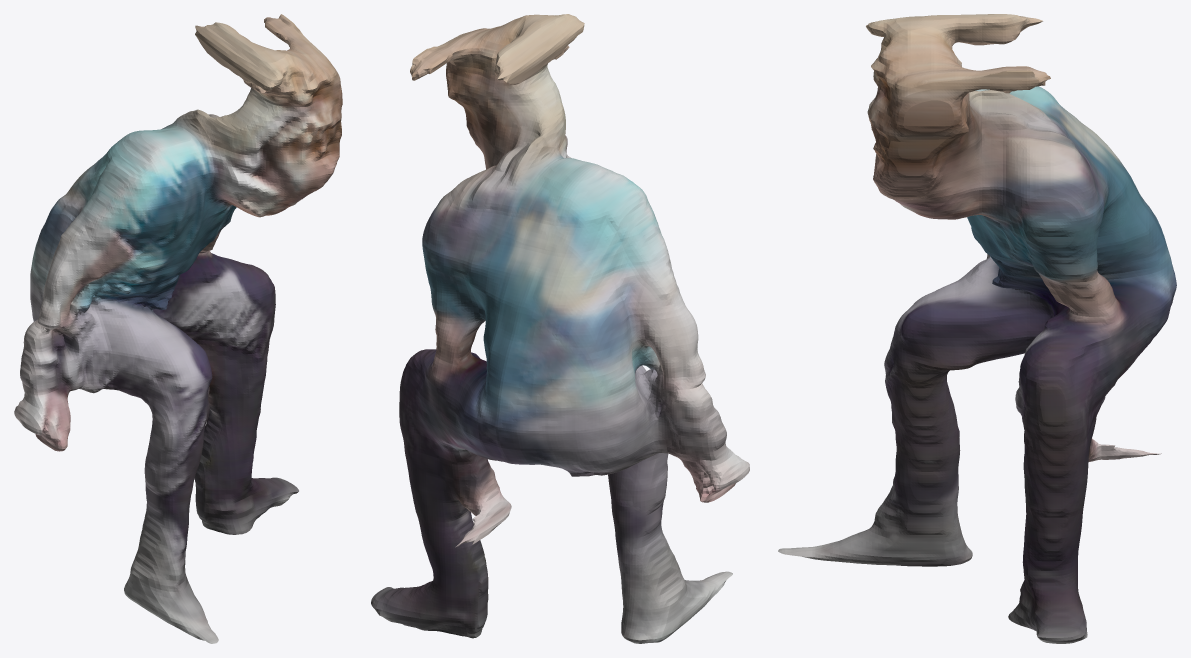
Rendered from 0062_tex.glb.
The picture shows the model from 3 angles, left to right: view 1: azimuth 30°, elevation 25°; view 2: azimuth 150°, elevation 25°; view 3: azimuth 270°, elevation 25°; orthographic projection. The views are drawn at different scales.
Parts seen in each view (by area): view 1: 0062_tex.obj; view 2: 0062_tex.obj; view 3: 0062_tex.obj.
Part boxes in pixels (bbox=[...]): 0062_tex.obj: bbox=[14, 14, 342, 643]; 0062_tex.obj: bbox=[371, 14, 749, 643]; 0062_tex.obj: bbox=[778, 14, 1176, 643].
Bounding box in the file's own units: 0.52 × 0.8704 × 0.5227.
